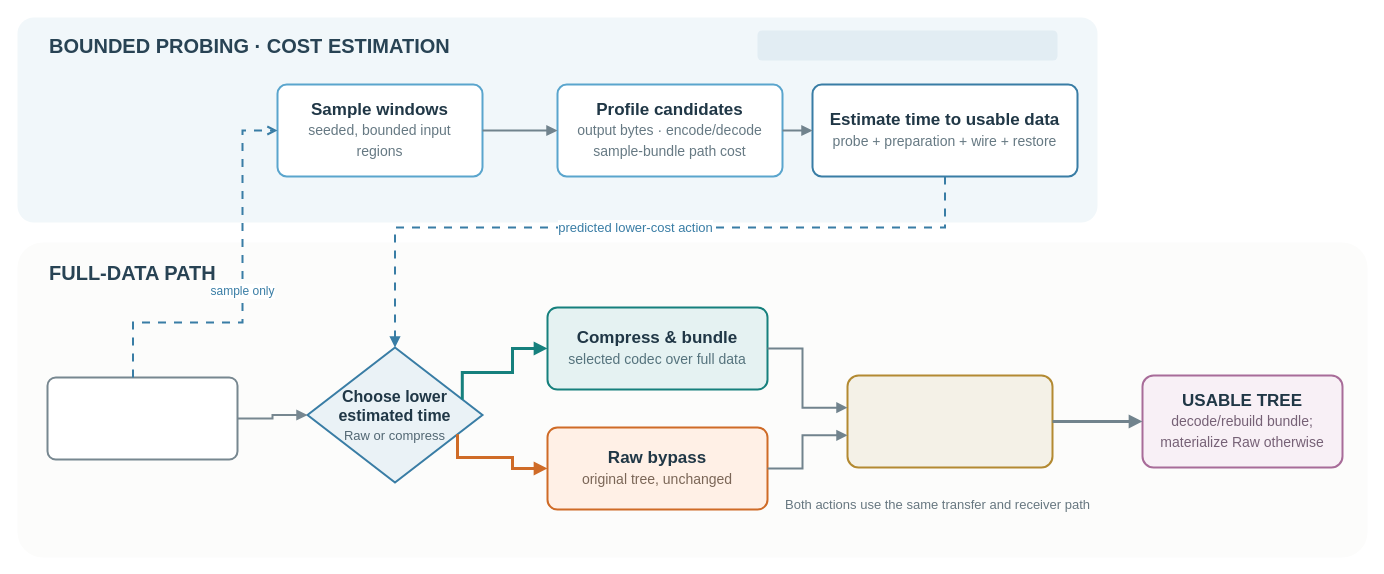
Image size: 1384x574. Some labels were removed from this diagram. Here are the shapes that lost their labels. From the top down, the centre of each, then its label:
At (x=907, y=45): "Probe work is charged to CPSS elapsed time".
At (x=142, y=418): "INPUT TREE full source payload".
At (x=949, y=421): "Fixed transfer path selected representation + bundle metadata".
